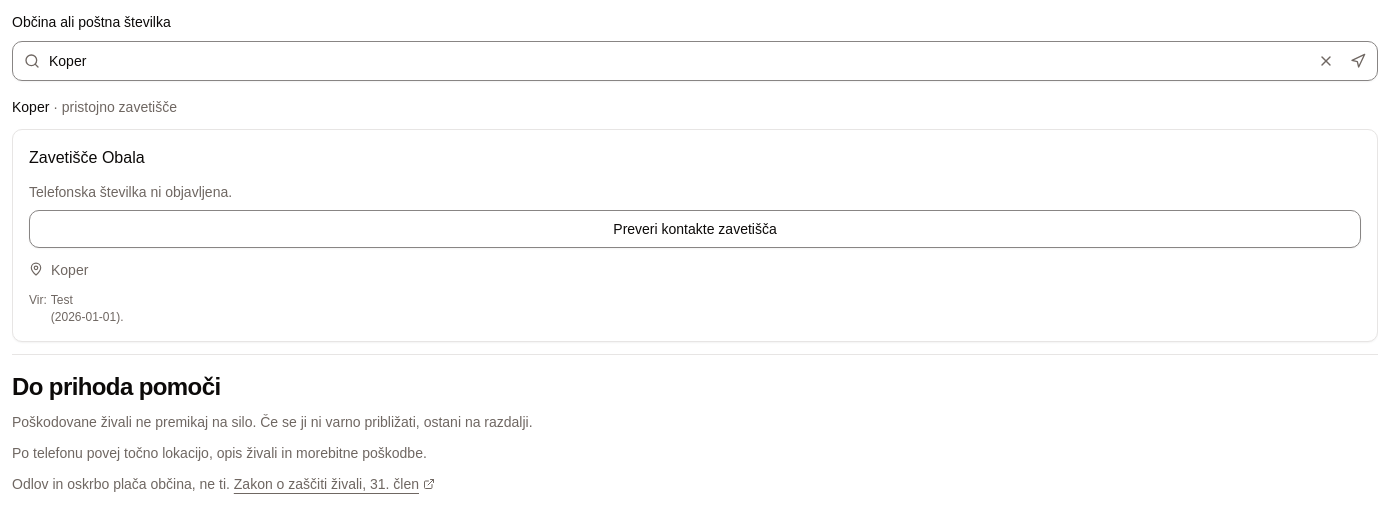
Test case: MunicipalityFinder deep link › gives way to what the visitor types over it
This screenshot has width=1390, height=511.
expect the link "Zavetišče Obala" is shown: met, box 29,146 -> 145,170
Replace the text in the dropdown with "Maribor" at (695, 61), box 12,41 -> 1378,81
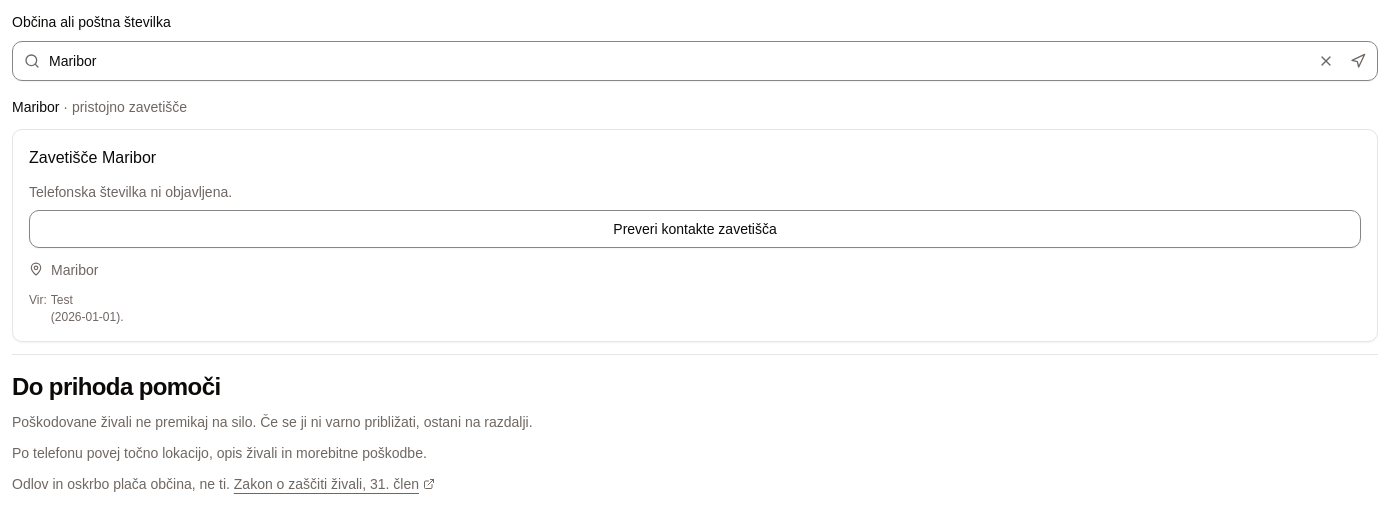
expect the link "Zavetišče Maribor" is shown: met, box 29,146 -> 156,170
expect the link "Zavetišče Obala" is gone: met
